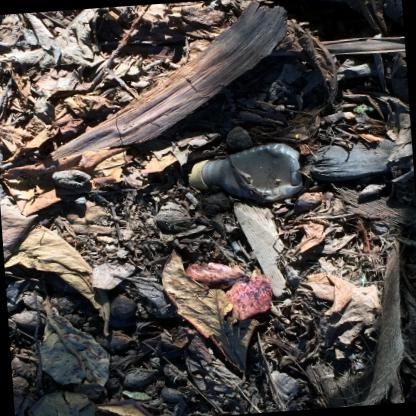Plastic: (187, 143, 302, 201), (187, 158, 211, 188)
